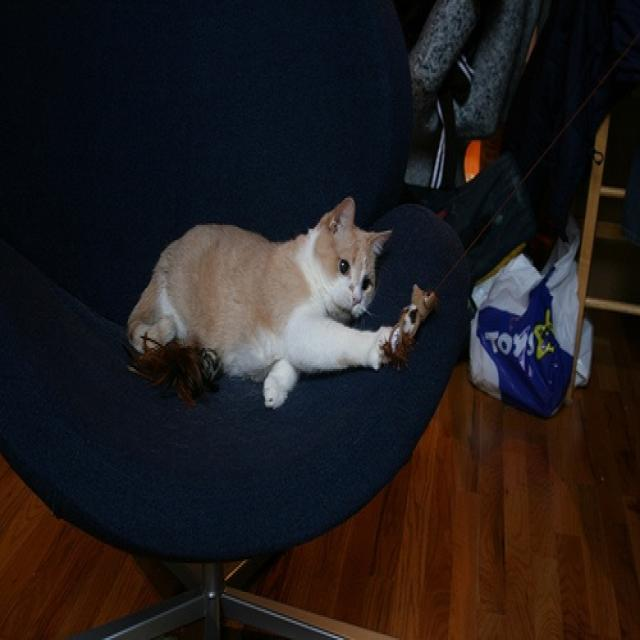cat: (126, 192, 398, 408)
chair: (0, 0, 472, 632)
